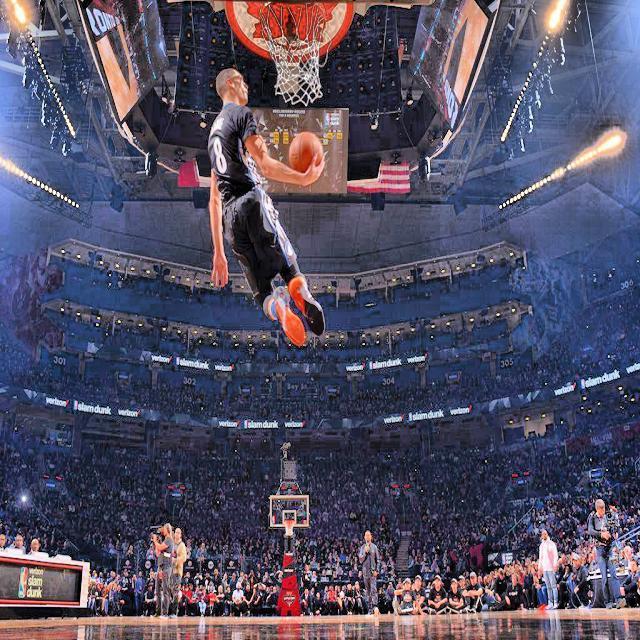board: (290, 132, 324, 170)
